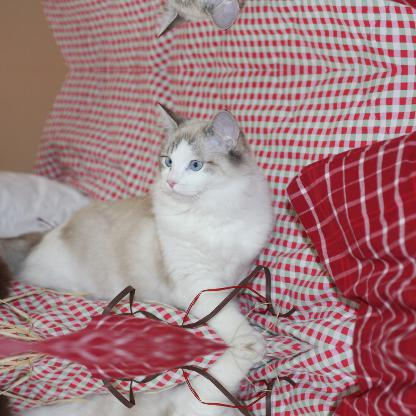Cat: (14, 100, 276, 346), (14, 346, 277, 415)
